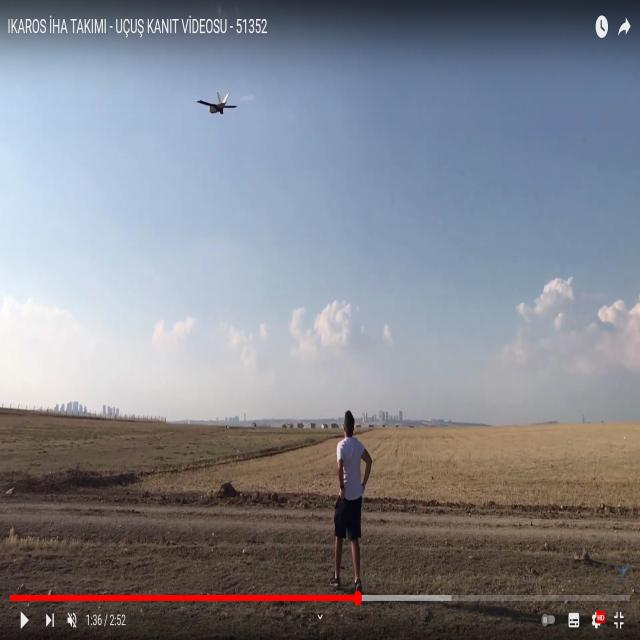iha: (197, 28, 238, 50)
